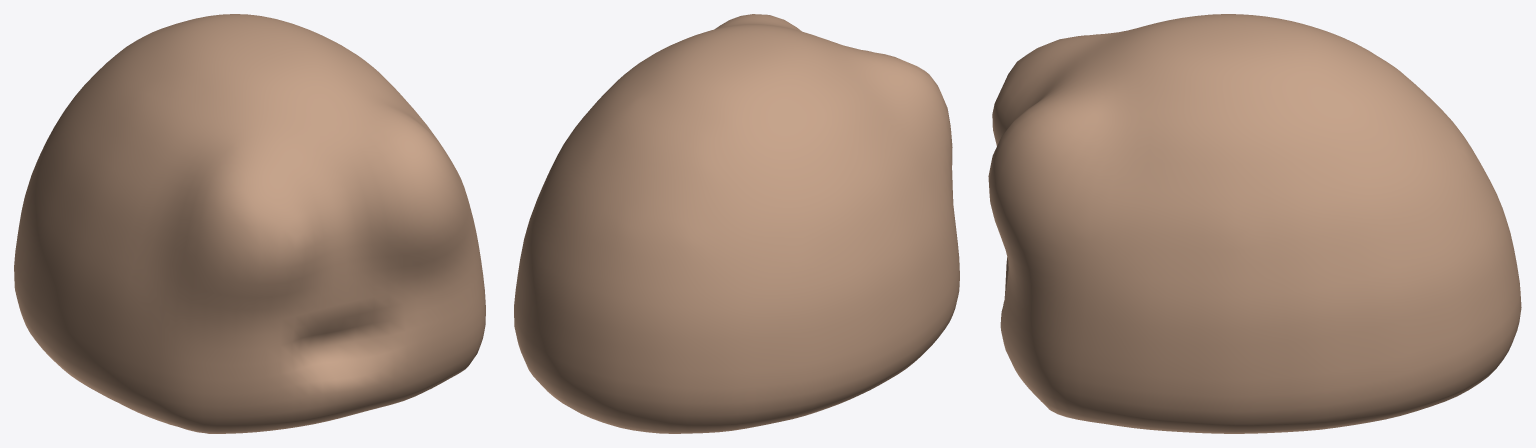
File: slime_xform.fbx
3 renders of one model, left to right at view 1: azimuth 30°, elevation 25°; view 2: azimuth 150°, elevation 25°; view 3: azimuth 270°, elevation 25°, orthographic. The views are drawn at different scales.
Visible parts, largest first — view 1: Sphere002-retopo 1; view 2: Sphere002-retopo 1; view 3: Sphere002-retopo 1.
Boxes of the visible parts, left/top/right/bottom form: Sphere002-retopo 1: left=14, top=14, right=485, bottom=433; Sphere002-retopo 1: left=514, top=14, right=959, bottom=433; Sphere002-retopo 1: left=988, top=14, right=1521, bottom=433.
Bounding box in the file's own units: 156 × 125 × 180.
